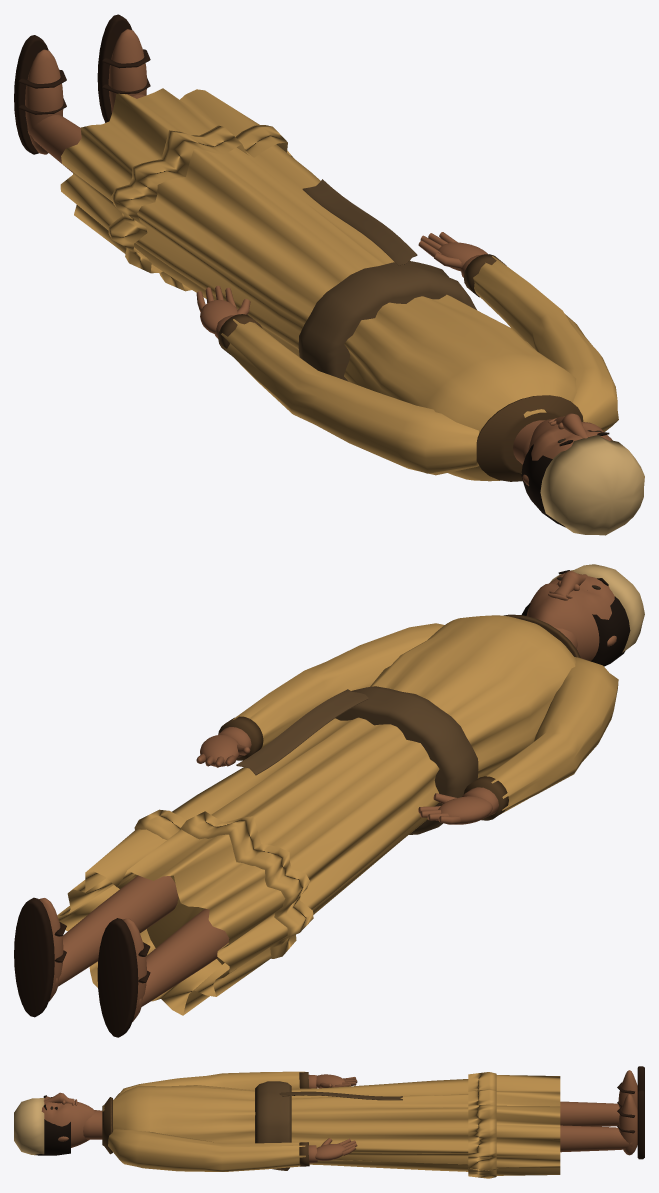
The model's file is SM_V3_Pilgrim_Youth.obj.
3 renders of one model, top to bottom at view 1: azimuth 30°, elevation 25°; view 2: azimuth 150°, elevation 25°; view 3: azimuth 270°, elevation 25°, orthographic. The views are drawn at different scales.
Visible parts, largest first — view 1: Tunic, SleeveR, SleeveL, Sash, Cap, Collar, SashTail, FootR, FootL, SandalSoleR, ShinR, Head (+3 smaller); view 2: Tunic, SleeveR, SleeveL, Sash, ShinL, ShinR, SandalSoleR, SandalSoleL, Head, SashTail, Cap, Hair (+6 smaller); view 3: Tunic, SleeveL, Sash, SleeveR, ShinL, Cap, ShinR, Head, Hair, FootL, SashTail, SandalSoleL (+8 smaller).
Boxes of the visible parts, x1=… form: Tunic: x1=60, y1=88, x2=576, y2=481; SleeveR: x1=221, y1=319, x2=478, y2=475; SleeveL: x1=473, y1=255, x2=618, y2=431; Sash: x1=298, y1=261, x2=476, y2=381; Cap: x1=540, y1=435, x2=644, y2=535; Collar: x1=476, y1=395, x2=583, y2=481; SashTail: x1=302, y1=179, x2=417, y2=265; FootR: x1=25, y1=49, x2=63, y2=154; FootL: x1=108, y1=29, x2=147, y2=109; SandalSoleR: x1=14, y1=35, x2=48, y2=154; ShinR: x1=27, y1=114, x2=81, y2=172; Head: x1=528, y1=419, x2=612, y2=460; Tunic: x1=57, y1=615, x2=576, y2=1015; SleeveR: x1=485, y1=657, x2=618, y2=814; SleeveL: x1=232, y1=623, x2=444, y2=748; Sash: x1=335, y1=686, x2=478, y2=834; ShinL: x1=54, y1=875, x2=178, y2=986; ShinR: x1=138, y1=908, x2=229, y2=1006; SandalSoleR: x1=97, y1=918, x2=138, y2=1037; SandalSoleL: x1=14, y1=897, x2=54, y2=1017; Head: x1=526, y1=572, x2=614, y2=661; SashTail: x1=236, y1=689, x2=368, y2=775; Cap: x1=550, y1=564, x2=644, y2=652; Hair: x1=521, y1=583, x2=630, y2=666; Tunic: x1=102, y1=1072, x2=560, y2=1178; SleeveL: x1=108, y1=1129, x2=305, y2=1171; Sash: x1=255, y1=1081, x2=291, y2=1170; SleeveR: x1=115, y1=1071, x2=304, y2=1098; ShinL: x1=560, y1=1125, x2=632, y2=1152; Cap: x1=14, y1=1098, x2=44, y2=1155; ShinR: x1=560, y1=1101, x2=619, y2=1126; Head: x1=41, y1=1096, x2=95, y2=1147; Hair: x1=35, y1=1107, x2=70, y2=1155; FootL: x1=618, y1=1094, x2=637, y2=1155; SashTail: x1=279, y1=1091, x2=402, y2=1100; SandalSoleL: x1=637, y1=1090, x2=644, y2=1159.
Bounding box in the file's own units: 55.09 × 27.67 × 179.
